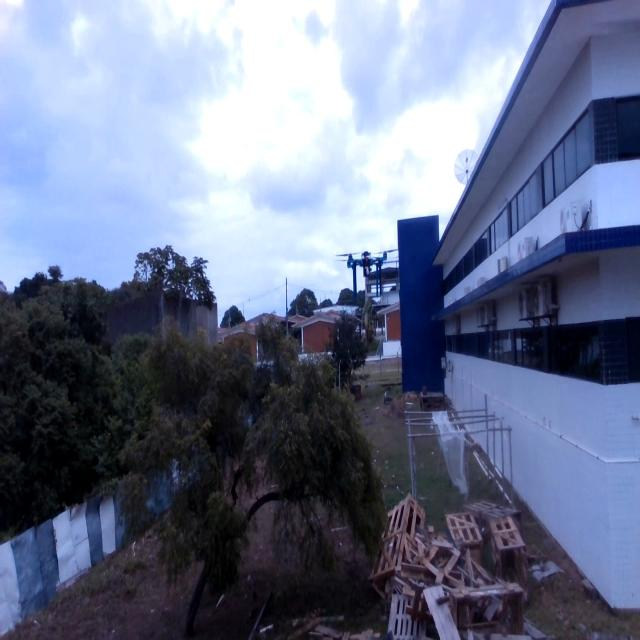-uav-: (335, 242, 397, 308)
